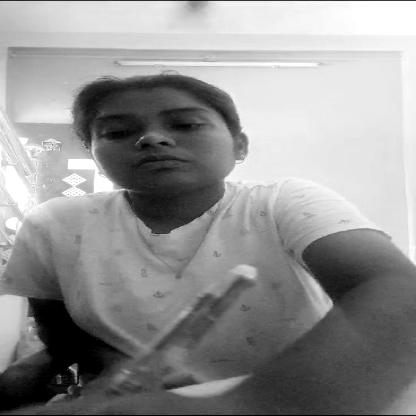Normal: (57, 77, 257, 200)
